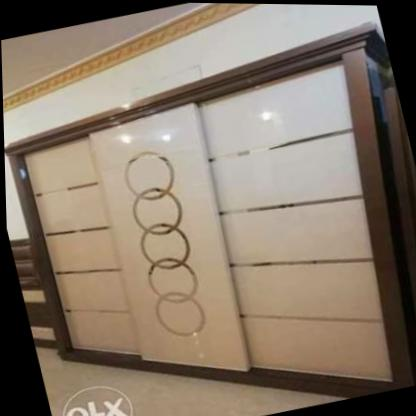Closet: (3, 21, 416, 393)
